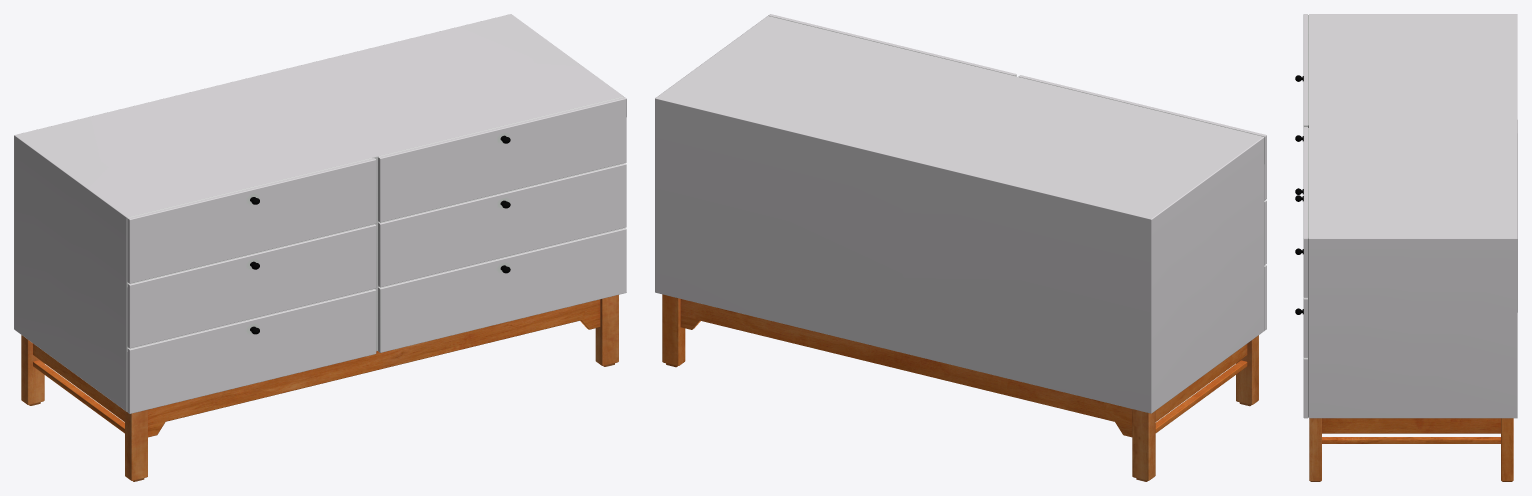
Rendered from Dresser.fbx.
The picture shows the model from 3 angles, left to right: view 1: azimuth 30°, elevation 25°; view 2: azimuth 150°, elevation 25°; view 3: azimuth 270°, elevation 25°; orthographic projection. The views are drawn at different scales.
Parts seen in each view (by area): view 1: node_id90; view 2: node_id90; view 3: node_id90.
Part boxes in pixels (box(x1,y1,x2,y2)): node_id90: box(14, 14, 626, 481); node_id90: box(655, 14, 1266, 481); node_id90: box(1295, 14, 1517, 481).
Bounding box in the file's own units: 449 × 230 × 188.
1 material, 1 textured.
